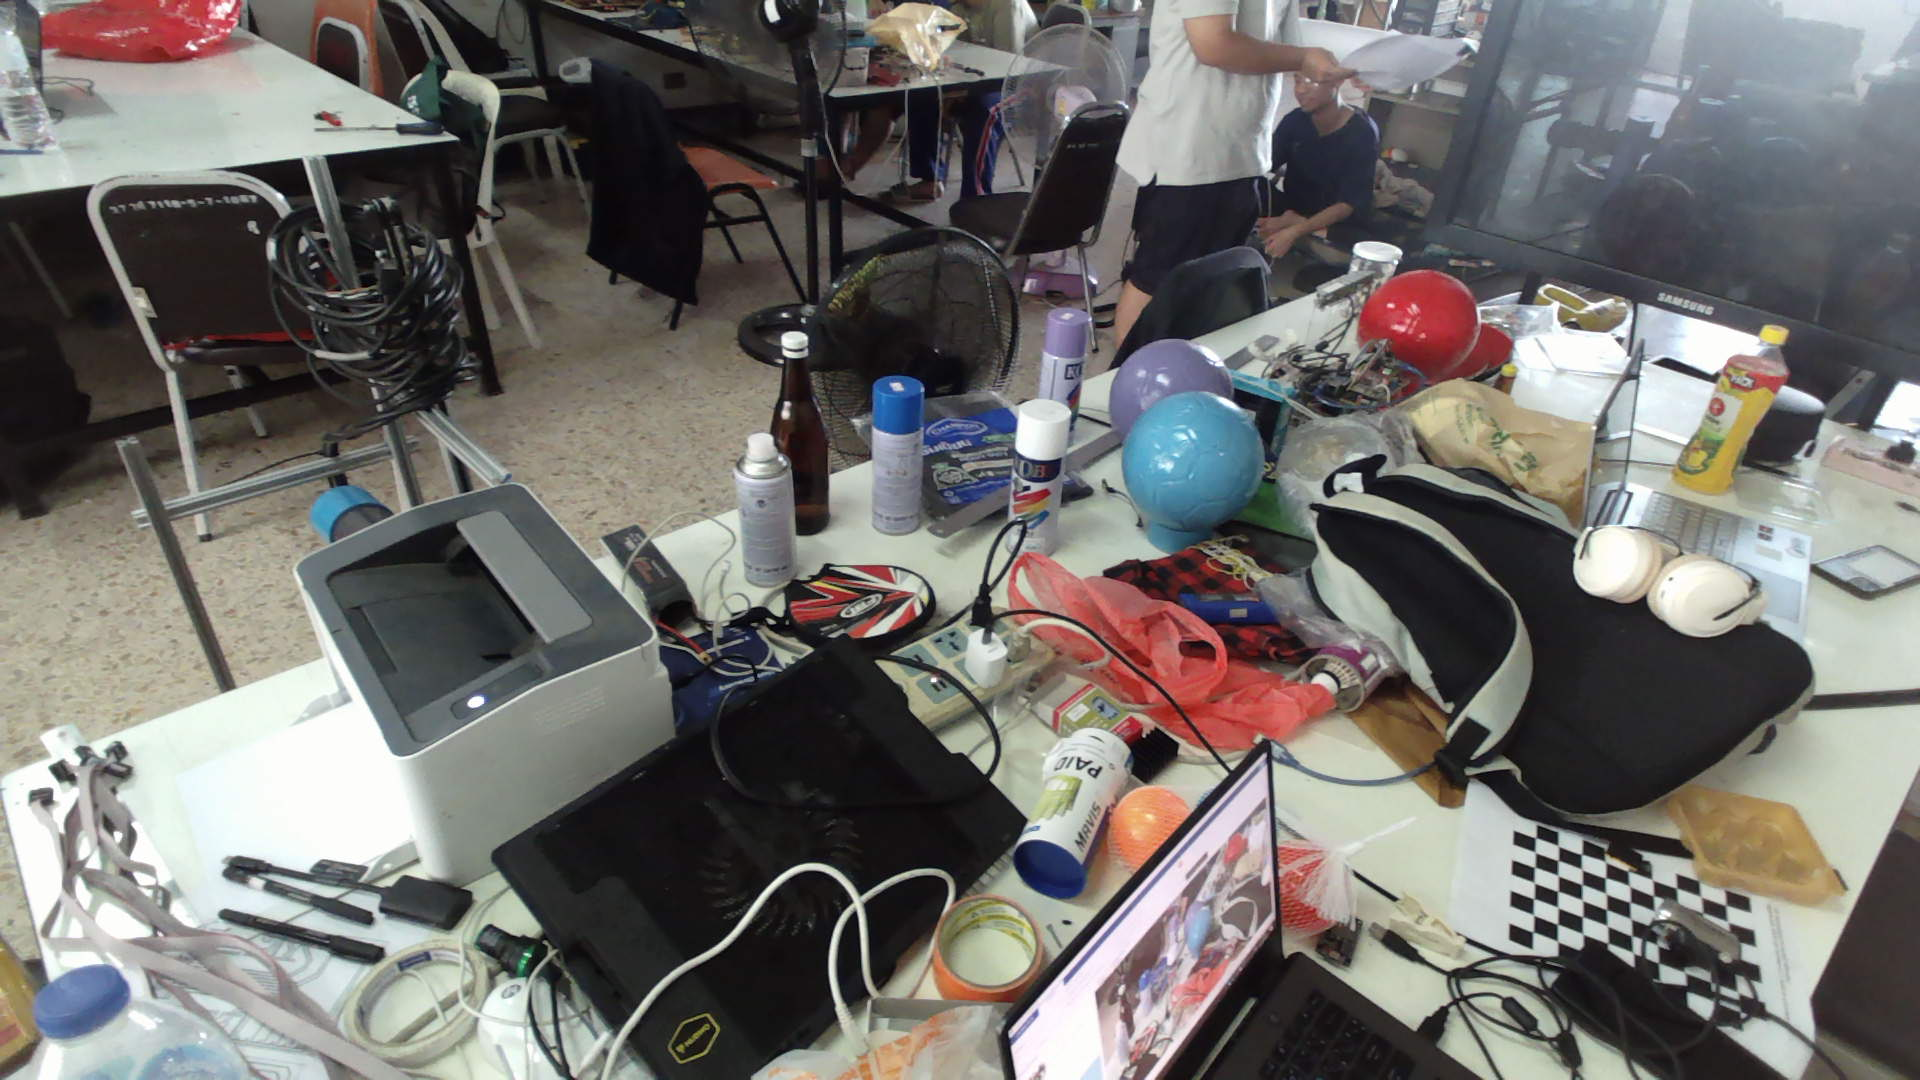Blue ball: (1121, 390, 1267, 530)
Purple ball: (1109, 338, 1236, 417)
Red ball: (1356, 268, 1482, 378)
